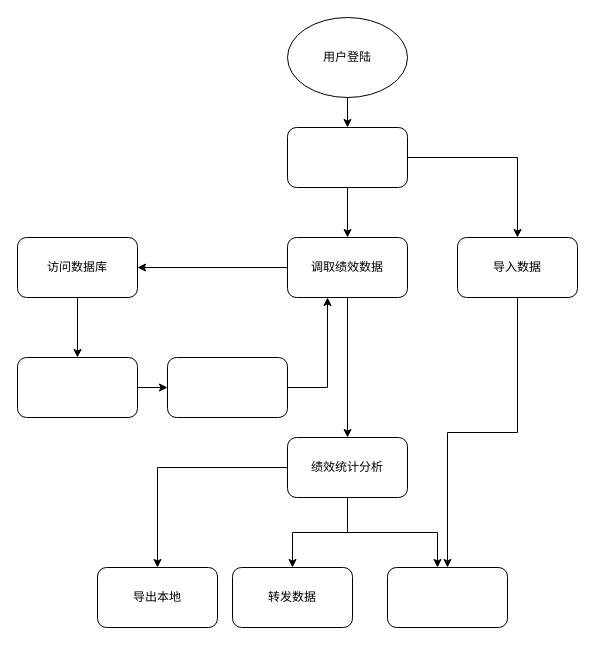
The diagram is 595 pixels wide and 645 high, and some of its shapes have lost their labels. The shapes that lost their labels are listed below. From the top down, each one's centre as x and y in pixels, then its label:
At (347,157): "用户鉴权".
At (77,387): "绩效数据筛选".
At (227,387): "绩效核算".
At (447,597): "登出".
